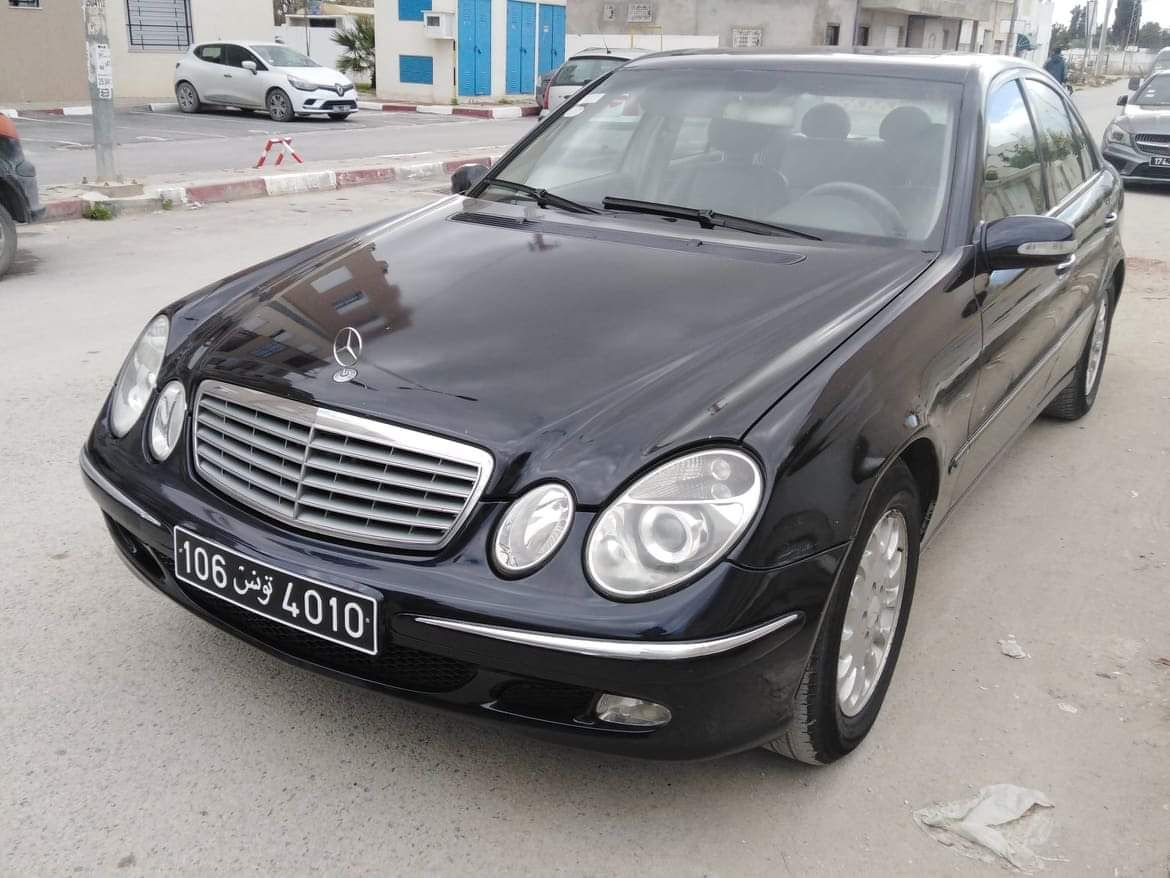LP: (173, 525, 380, 656)
